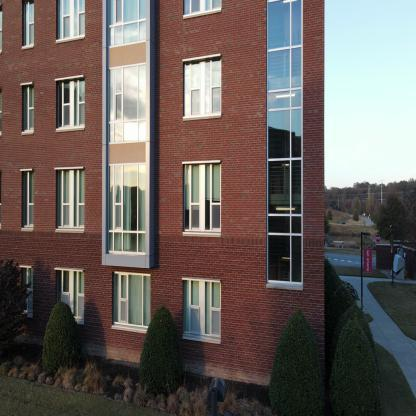Wolf Ridge: (0, 4, 336, 391)
